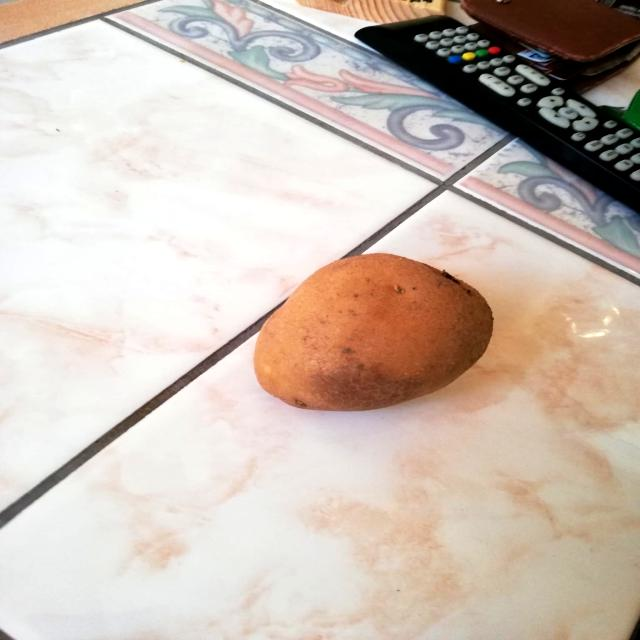potato: (248, 242, 502, 420)
